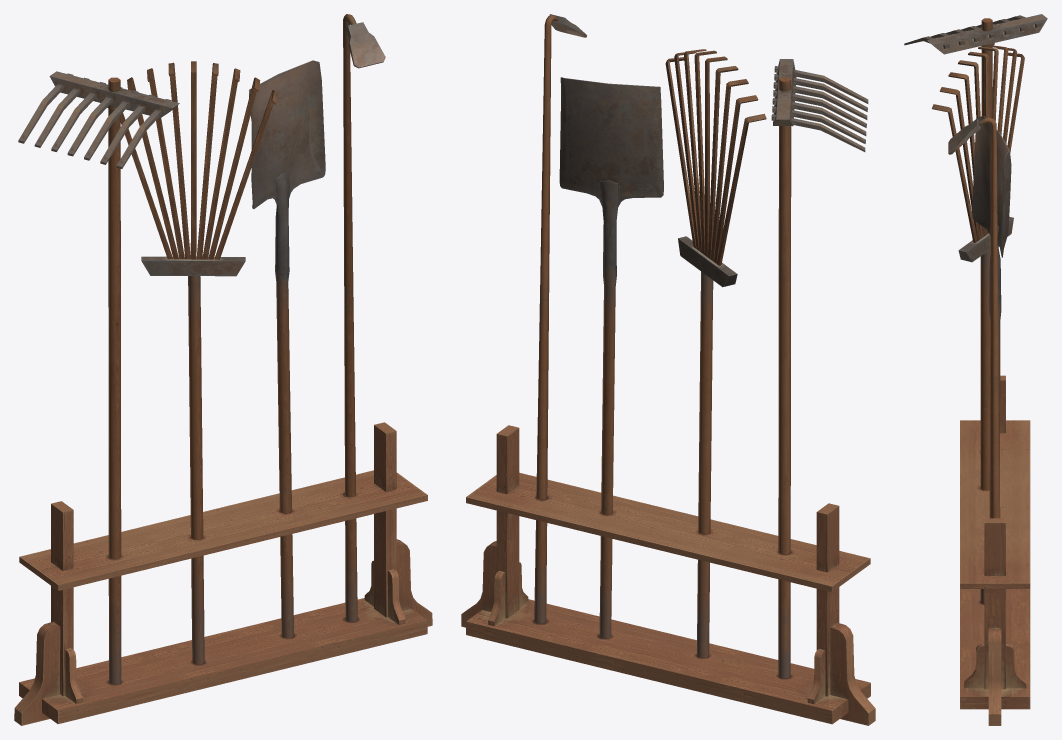
The model's file is Furniture_02_e.FBX.
The picture shows the model from 3 angles, left to right: view 1: azimuth 30°, elevation 25°; view 2: azimuth 150°, elevation 25°; view 3: azimuth 270°, elevation 25°; orthographic projection. The views are drawn at different scales.
Visible parts, largest first — view 1: Furniture_02_e; view 2: Furniture_02_e; view 3: Furniture_02_e.
Part boxes in pixels (x1=…): Furniture_02_e: x1=14, y1=14, x2=432, y2=725; Furniture_02_e: x1=461, y1=14, x2=875, y2=725; Furniture_02_e: x1=904, y1=14, x2=1047, y2=725.
Size of the model in its own units: 129 by 190 by 43.
